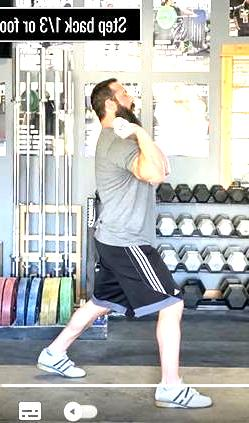Barbell: (111, 117, 124, 131)
